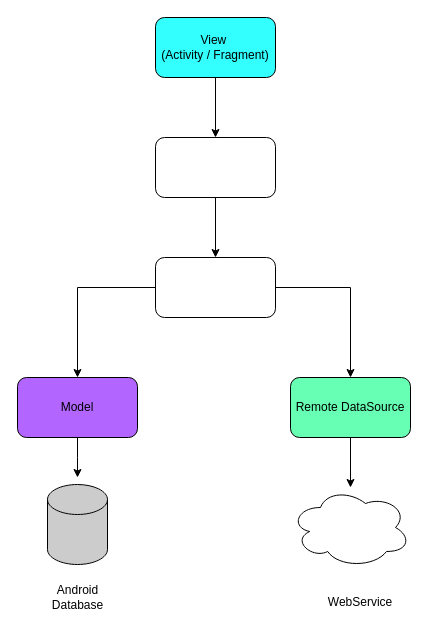
This 428x635 diagram has some shape labels left out. Each missing label, with the centre of its shape:
"Repository" belongs at point 215,287.
"ViewModels" belongs at point 215,167.
